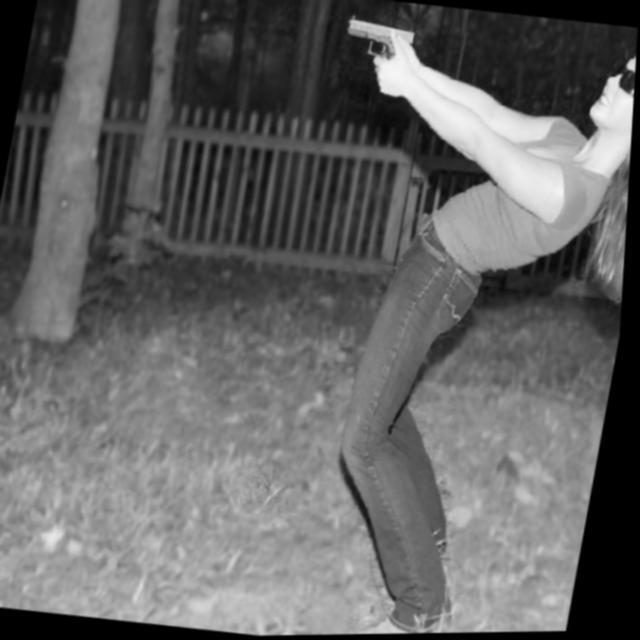weapon: (340, 14, 418, 65)
